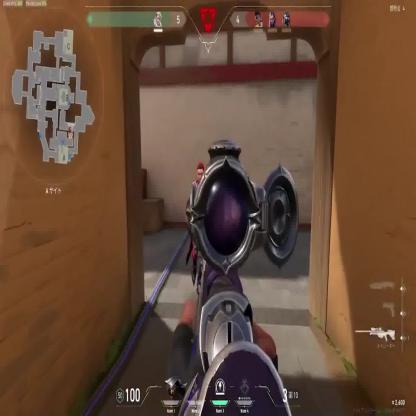enemy: (186, 160, 208, 294)
enemy_head: (196, 163, 206, 185)
